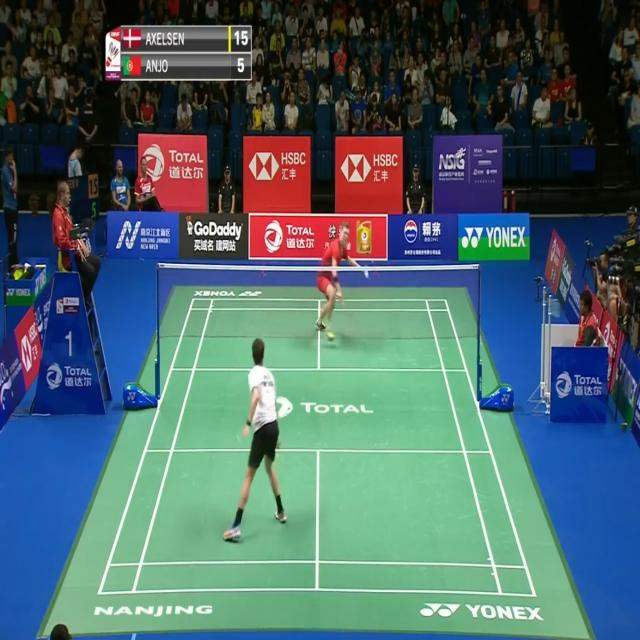Player1: (219, 331, 291, 545)
Player2: (304, 220, 374, 346)
